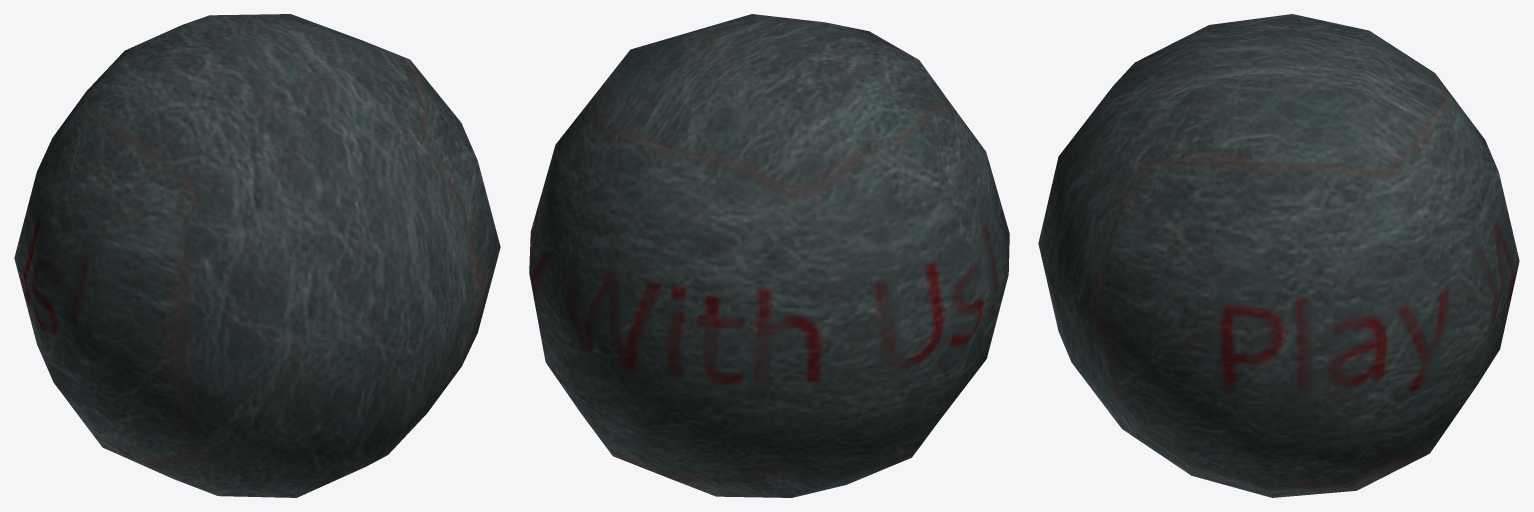
The model's file is Ball_Play.FBX.
The picture shows the model from 3 angles, left to right: view 1: azimuth 30°, elevation 25°; view 2: azimuth 150°, elevation 25°; view 3: azimuth 270°, elevation 25°; orthographic projection. The views are drawn at different scales.
Parts seen in each view (by area): view 1: PlayWithUsBall; view 2: PlayWithUsBall; view 3: PlayWithUsBall.
Boxes of the visible parts, bbox=[...] form: PlayWithUsBall: bbox=[14, 14, 500, 497]; PlayWithUsBall: bbox=[529, 14, 1009, 497]; PlayWithUsBall: bbox=[1038, 14, 1519, 497].
Bounding box in the file's own units: 10.36 × 10.22 × 10.36.
1 material, 1 textured.
